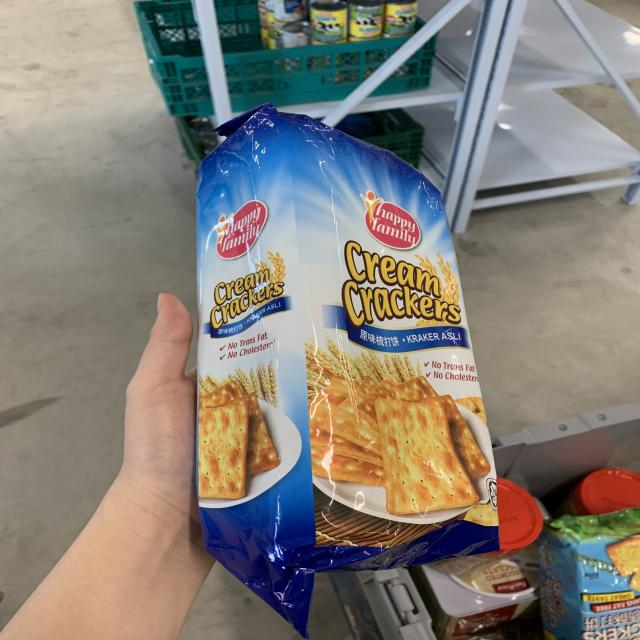object_name: (199, 130, 500, 553)
